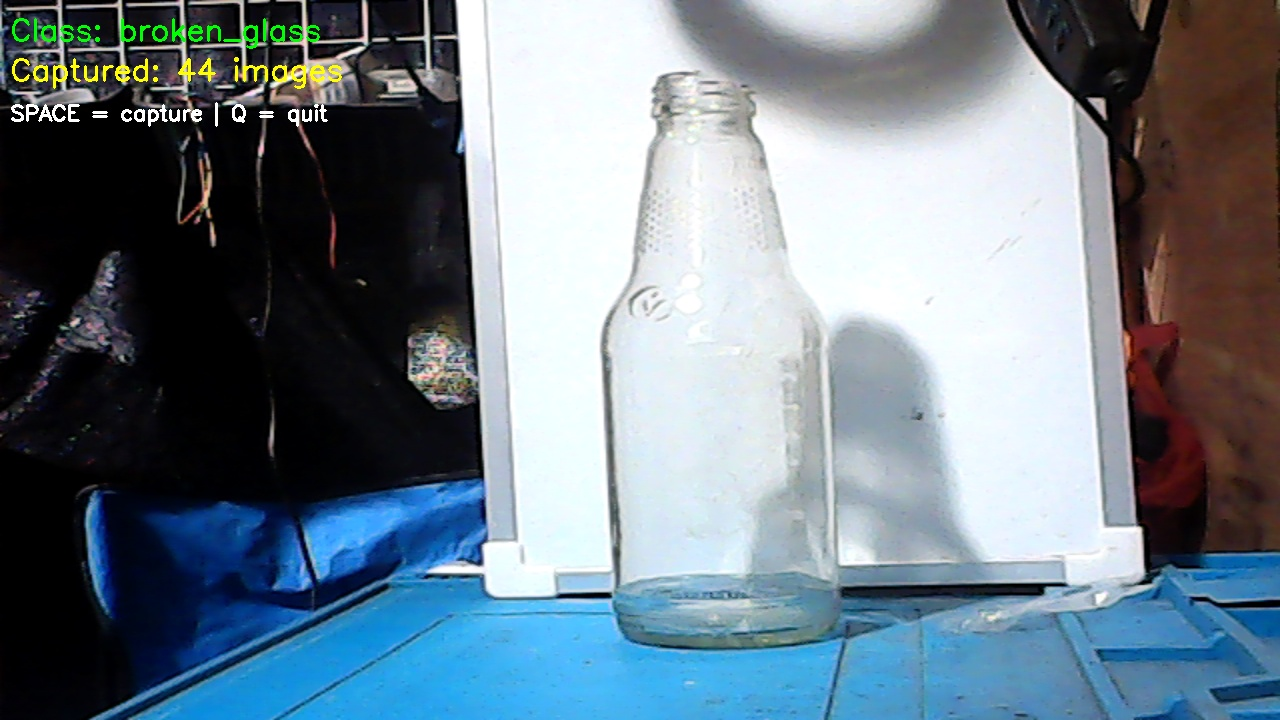broken_glass: (603, 66, 854, 646)
